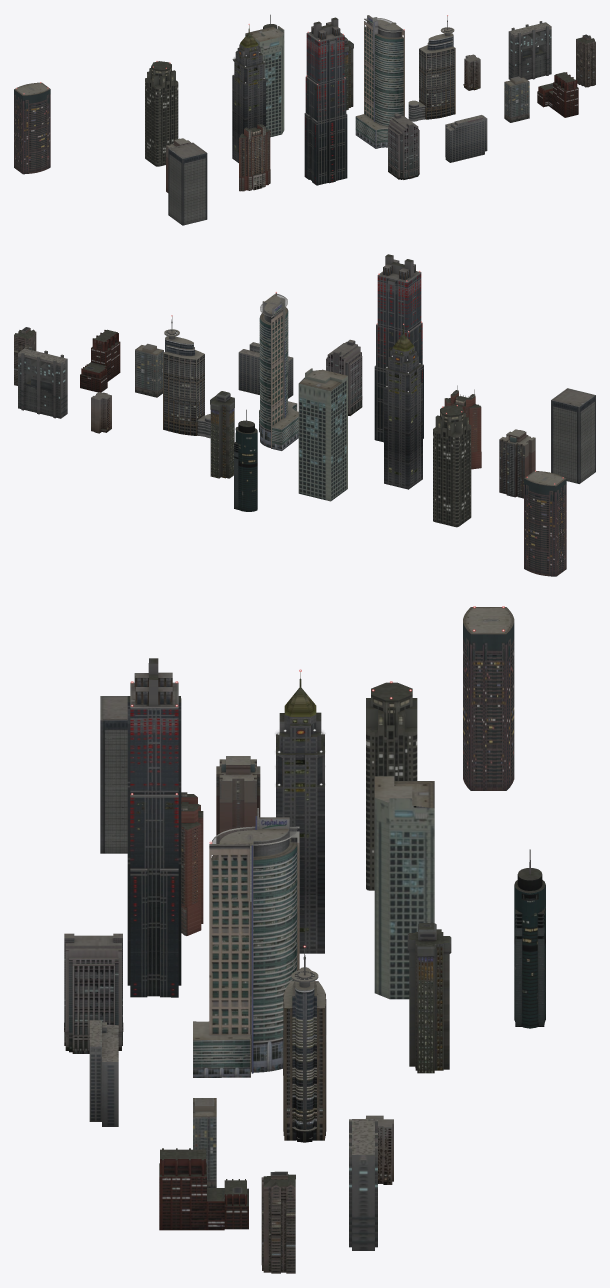
File: city-building-pack.glb
3 renders of one model, top to bottom at view 1: azimuth 30°, elevation 25°; view 2: azimuth 150°, elevation 25°; view 3: azimuth 270°, elevation 25°, orthographic. The views are drawn at different scales.
Parts seen in each view (by area): view 1: BACKGROUND_BUILDINGS_1.009, BACKGROUND_BUILDING_2, BACKGROUND_BUILDINGS_1, BACKGROUND_BUILDINGS_1.007, BACKGROUND_BUILDING_2.008, BACKGROUND_BUILDINGS_1.008, BACKGROUND_BUILDINGS_1.002, BACKGROUND_BUILDING_2.007, BACKGROUND_BUILDING_2.005, BACKGROUND_BUILDINGS_1.004, BACKGROUND_BUILDING_2.001, BACKGROUND_BUILDING_2.002 (+5 smaller); view 2: BACKGROUND_BUILDING_2.007, BACKGROUND_BUILDINGS_1.008, BACKGROUND_BUILDINGS_1.009, BACKGROUND_BUILDING_2, BACKGROUND_BUILDING_2.008, BACKGROUND_BUILDINGS_1.007, BACKGROUND_BUILDINGS_1, BACKGROUND_BUILDINGS_1.002, BACKGROUND_BUILDING_2.005, BACKGROUND_BUILDINGS_1.001, BACKGROUND_BUILDINGS_1.003, BACKGROUND_BUILDINGS_1.006 (+7 smaller); view 3: BACKGROUND_BUILDING_2, BACKGROUND_BUILDINGS_1.009, BACKGROUND_BUILDING_2.007, BACKGROUND_BUILDINGS_1.007, BACKGROUND_BUILDINGS_1.008, BACKGROUND_BUILDINGS_1, BACKGROUND_BUILDING_2.001, BACKGROUND_BUILDINGS_1.006, BACKGROUND_BUILDING_2.004, BACKGROUND_BUILDING_2.008, BACKGROUND_BUILDINGS_1.001, BACKGROUND_BUILDINGS_1.002 (+7 smaller).
Boxes of the visible parts, box(x1,y1,x2,y2) form: BACKGROUND_BUILDINGS_1.009: box(304, 17, 347, 185); BACKGROUND_BUILDING_2: box(355, 15, 404, 148); BACKGROUND_BUILDINGS_1: box(408, 16, 455, 121); BACKGROUND_BUILDINGS_1.007: box(14, 82, 50, 174); BACKGROUND_BUILDING_2.008: box(145, 61, 178, 166); BACKGROUND_BUILDINGS_1.008: box(232, 25, 265, 162); BACKGROUND_BUILDINGS_1.002: box(168, 142, 207, 225); BACKGROUND_BUILDING_2.007: box(245, 26, 284, 137); BACKGROUND_BUILDING_2.005: box(508, 21, 551, 80); BACKGROUND_BUILDINGS_1.004: box(239, 124, 270, 191); BACKGROUND_BUILDING_2.001: box(388, 113, 419, 179); BACKGROUND_BUILDING_2.002: box(445, 115, 487, 162); BACKGROUND_BUILDING_2.007: box(298, 368, 347, 501); BACKGROUND_BUILDINGS_1.008: box(384, 325, 422, 489); BACKGROUND_BUILDINGS_1.009: box(374, 254, 423, 442); BACKGROUND_BUILDING_2: box(259, 293, 298, 450); BACKGROUND_BUILDING_2.008: box(433, 405, 471, 527); BACKGROUND_BUILDINGS_1.007: box(524, 471, 566, 576); BACKGROUND_BUILDINGS_1: box(163, 316, 210, 438); BACKGROUND_BUILDINGS_1.002: box(551, 388, 595, 483); BACKGROUND_BUILDING_2.005: box(18, 346, 67, 418); BACKGROUND_BUILDINGS_1.001: box(234, 409, 257, 511); BACKGROUND_BUILDINGS_1.003: box(499, 429, 535, 498); BACKGROUND_BUILDINGS_1.006: box(210, 391, 234, 478); BACKGROUND_BUILDING_2: box(193, 808, 299, 1077); BACKGROUND_BUILDINGS_1.009: box(127, 658, 181, 997); BACKGROUND_BUILDING_2.007: box(374, 776, 434, 999); BACKGROUND_BUILDINGS_1.007: box(463, 607, 514, 790); BACKGROUND_BUILDINGS_1.008: box(276, 672, 324, 953); BACKGROUND_BUILDINGS_1: box(283, 947, 326, 1142); BACKGROUND_BUILDING_2.001: box(64, 933, 123, 1053); BACKGROUND_BUILDINGS_1.006: box(407, 923, 451, 1073); BACKGROUND_BUILDING_2.004: box(159, 1148, 248, 1230); BACKGROUND_BUILDING_2.008: box(366, 682, 417, 890); BACKGROUND_BUILDINGS_1.001: box(514, 849, 545, 1028); BACKGROUND_BUILDINGS_1.002: box(100, 696, 127, 853).
Bounding box in the file's own units: 1049 × 301 × 419.
4 materials, 4 textured.
